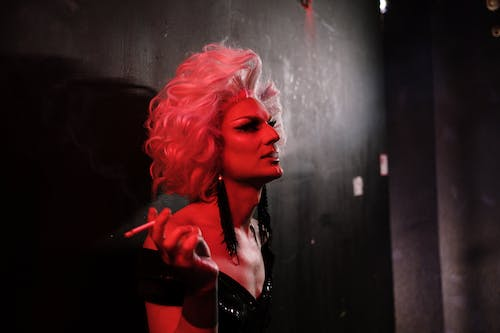cigarette: (122, 218, 159, 239)
